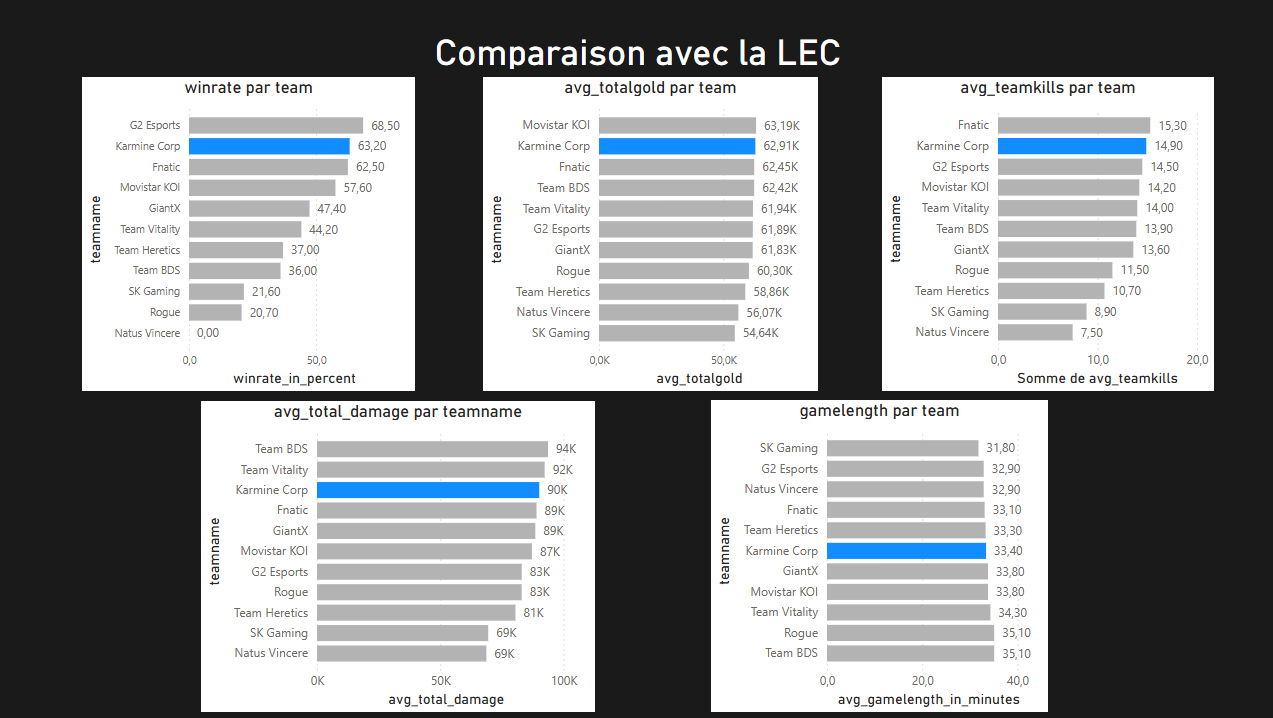

Layout of this report page (visuals, bound fields, positions):
{"tool":"powerbi","page":{"name":"Comparaison avec la LEC","canvas":[1280,720],"ordinal":3},"visuals":[{"type":"shape","box":[0,0.9,1280,719.5],"z":0},{"type":"textbox","title":"Comparaison avec la LEC","box":[416.6,32.6,446.4,38.4],"z":1000},{"type":"clusteredBarChart","title":"avg_totalgold par team","fields":{"Category":["public lec_teams_ranked_by_totalgold.teamname"],"Y":["Sum(public lec_teams_ranked_by_totalgold.avg_totalgold)"]},"box":[484.8,78.7,335,313.9],"z":2000},{"type":"clusteredBarChart","title":"winrate par team","fields":{"Category":["public lec_teams_ranked_by_winrate.teamname"],"Y":["Sum(public lec_teams_ranked_by_winrate.winrate_percent)"]},"box":[83.5,78.7,333.1,313.9],"z":3000},{"type":"clusteredBarChart","title":"gamelength par team","fields":{"Category":["public lec_teams_ranked_by_gamelength.teamname"],"Y":["Sum(public lec_teams_ranked_by_gamelength.avg_gamelength_in_minutes)"]},"box":[713.3,402.2,337,312],"z":4000},{"type":"clusteredBarChart","title":"avg_teamkills par team","fields":{"Category":["public lec_teams_ranked_by_teamkills.teamname"],"Y":["Sum(public lec_teams_ranked_by_teamkills.avg_teamkills)"]},"box":[884.2,78.7,332.2,313.9],"z":5000},{"type":"clusteredBarChart","title":"avg_total_damage par teamname","fields":{"Category":["public lec_teams_ranked_by_damage.teamname"],"Y":["Sum(public lec_teams_ranked_by_damage.avg_total_damage)"]},"box":[202.9,402.8,393.9,310.8],"z":6000}]}

Visuals, with their boxes in screenshot pixels (x1, y1, x2, y2), scaled from the page's 1280x720 canvas onto the 1273x718 screenshot:
shape: 0,1,1272,717
"Comparaison avec la LEC" textbox: 414,33,858,71
"avg_totalgold par team" clusteredBarChart: 482,78,815,392
"winrate par team" clusteredBarChart: 83,78,414,392
"gamelength par team" clusteredBarChart: 709,401,1045,712
"avg_teamkills par team" clusteredBarChart: 879,78,1210,392
"avg_total_damage par teamname" clusteredBarChart: 202,402,594,712
